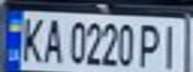0: (115, 20, 139, 69), (63, 17, 87, 65)
2: (100, 19, 121, 69), (84, 18, 103, 66)
A: (39, 15, 66, 64)
I: (157, 20, 184, 71)
K: (15, 13, 48, 64)
P: (136, 20, 163, 70)
